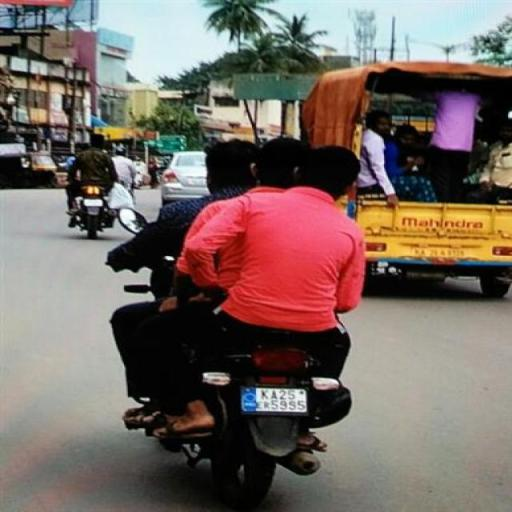tripple riding: (97, 130, 376, 356)
